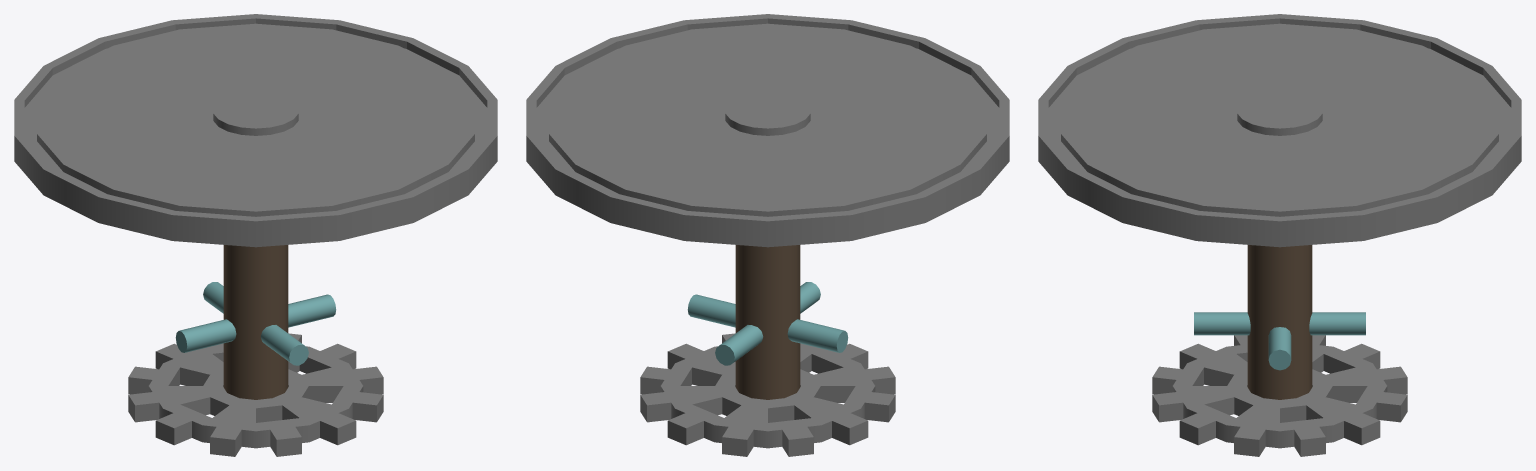
The model's file is Modé_Table.FBX.
3 views of the same model, side by side, from view 1: azimuth 30°, elevation 25°; view 2: azimuth 150°, elevation 25°; view 3: azimuth 270°, elevation 25° (orthographic).
Visible parts, largest first — view 1: Table; view 2: Table; view 3: Table.
Boxes of the visible parts, bbox=[...] form: Table: bbox=[14, 14, 497, 456]; Table: bbox=[526, 14, 1009, 456]; Table: bbox=[1038, 14, 1521, 456].
Size of the model in its own units: 79.74 by 52.51 by 78.53.
